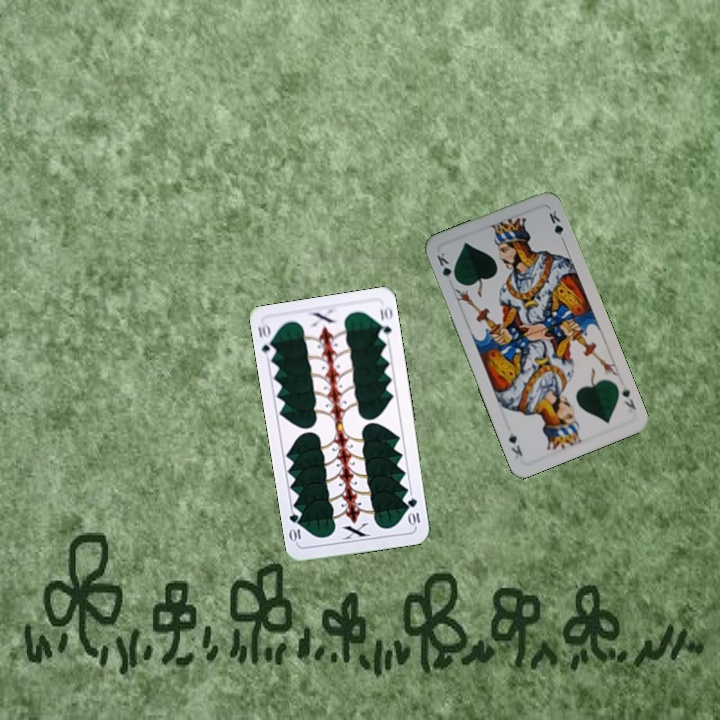G10: (254, 320, 278, 360), (403, 494, 423, 528)
GK: (433, 248, 460, 285), (618, 382, 639, 415)
